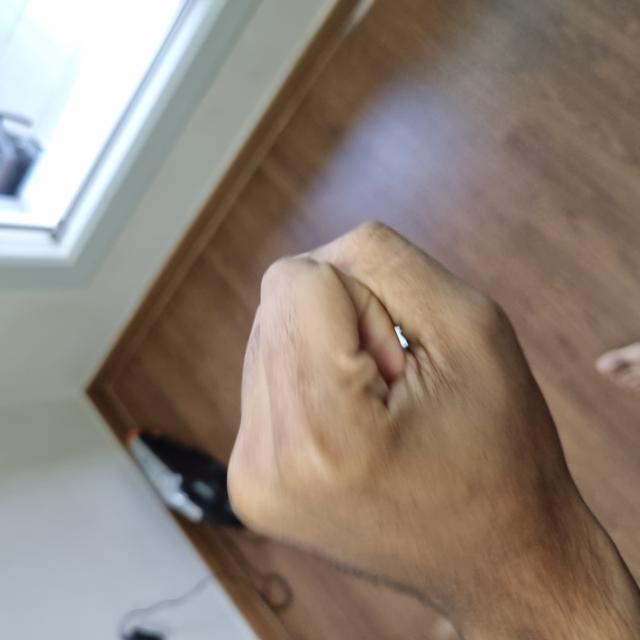Rock: (35, 235, 399, 567)
